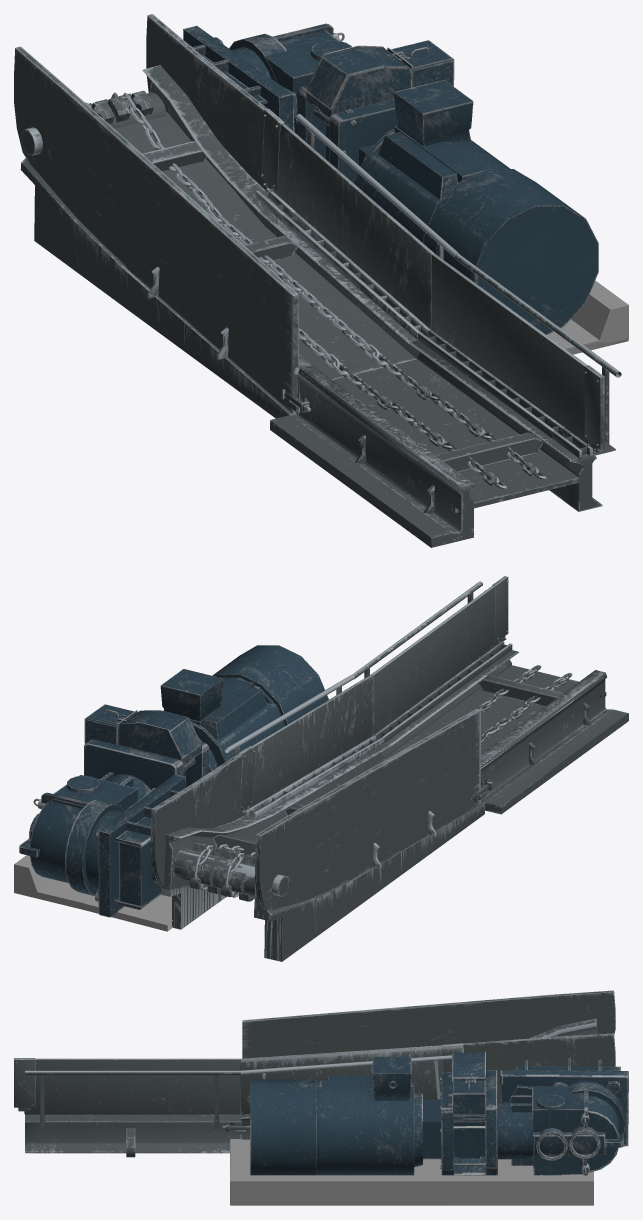
Rendered from HJ_MKTC_005.FBX.
The picture shows the model from 3 angles, top to bottom: view 1: azimuth 30°, elevation 25°; view 2: azimuth 150°, elevation 25°; view 3: azimuth 270°, elevation 25°; orthographic projection. The views are drawn at different scales.
Visible parts, largest first — view 1: HJ_MKTC_005_03, HJ_MKTC_005_05, HJ_MKTC_005_01, HJ_MKTC_005_04, HJ_MKTC_005_02; view 2: HJ_MKTC_005_03, HJ_MKTC_005_01, HJ_MKTC_005_05, HJ_MKTC_005_04, HJ_MKTC_005_02; view 3: HJ_MKTC_005_01, HJ_MKTC_005_03, HJ_MKTC_005_05, HJ_MKTC_005_04.
Boxes of the visible parts, box(x1,y1,x2,y2) form: HJ_MKTC_005_03: box(14, 14, 459, 418); HJ_MKTC_005_05: box(270, 253, 621, 547); HJ_MKTC_005_01: box(183, 23, 598, 334); HJ_MKTC_005_04: box(547, 280, 628, 354); HJ_MKTC_005_02: box(88, 90, 166, 128); HJ_MKTC_005_03: box(150, 674, 484, 961); HJ_MKTC_005_01: box(19, 645, 328, 917); HJ_MKTC_005_05: box(352, 576, 628, 814); HJ_MKTC_005_04: box(14, 855, 173, 931); HJ_MKTC_005_02: box(174, 842, 255, 901); HJ_MKTC_005_01: box(250, 1051, 628, 1175); HJ_MKTC_005_03: box(240, 990, 615, 1139); HJ_MKTC_005_05: box(14, 1058, 250, 1157); HJ_MKTC_005_04: box(230, 1139, 593, 1205).
Bounding box in the file's own units: 1.99 × 1.02 × 4.51.
4 materials, 3 textured.
